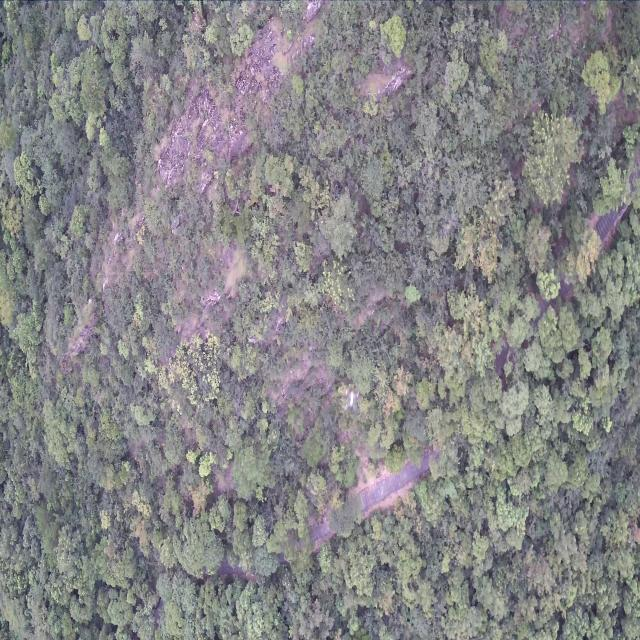drone: (344, 389, 362, 415)
